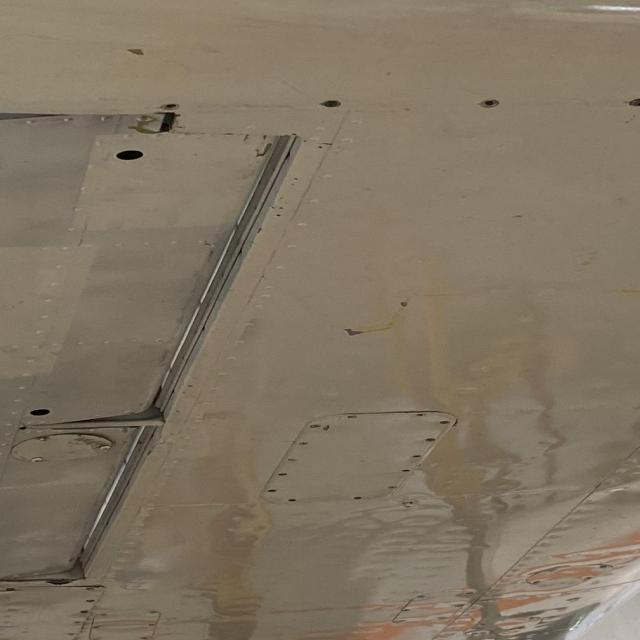Missing-head: (479, 98, 501, 108), (158, 101, 178, 111), (321, 98, 341, 107)
Paint-off: (125, 47, 143, 56)
